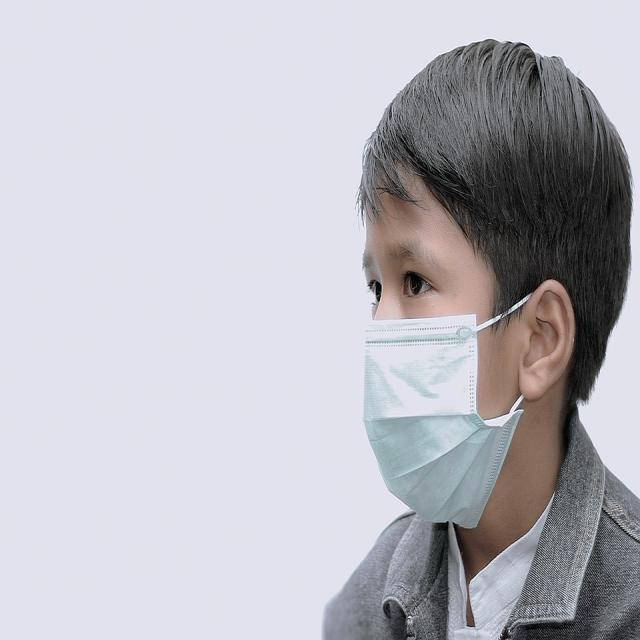1_mascarilla: (366, 314, 514, 534)
